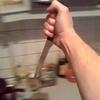melee: (33, 37, 52, 79)
